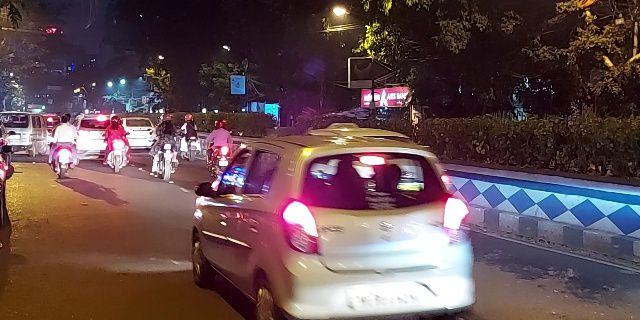Car: (193, 139, 487, 304)
Motorbike: (151, 111, 178, 187), (48, 115, 77, 176), (104, 112, 131, 176)
